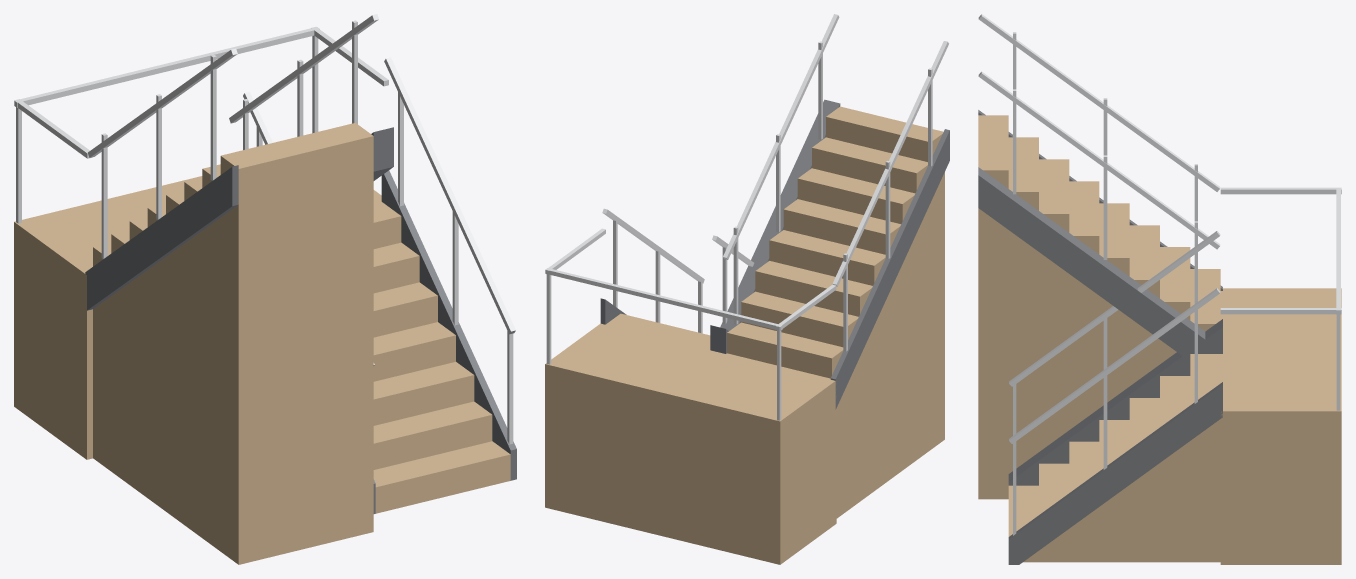
The model's file is stair_dogleg.glb.
3 renders of one model, left to right at view 1: azimuth 30°, elevation 25°; view 2: azimuth 150°, elevation 25°; view 3: azimuth 270°, elevation 25°, orthographic. The views are drawn at different scales.
Visible parts, largest first — view 1: stair_dogleg; view 2: stair_dogleg; view 3: stair_dogleg.
Boxes of the visible parts, <box> form: stair_dogleg: <box>14,14,516,564</box>; stair_dogleg: <box>545,14,949,564</box>; stair_dogleg: <box>978,14,1341,564</box>.
Size of the model in its own units: 2.4 by 3.9 by 3.
